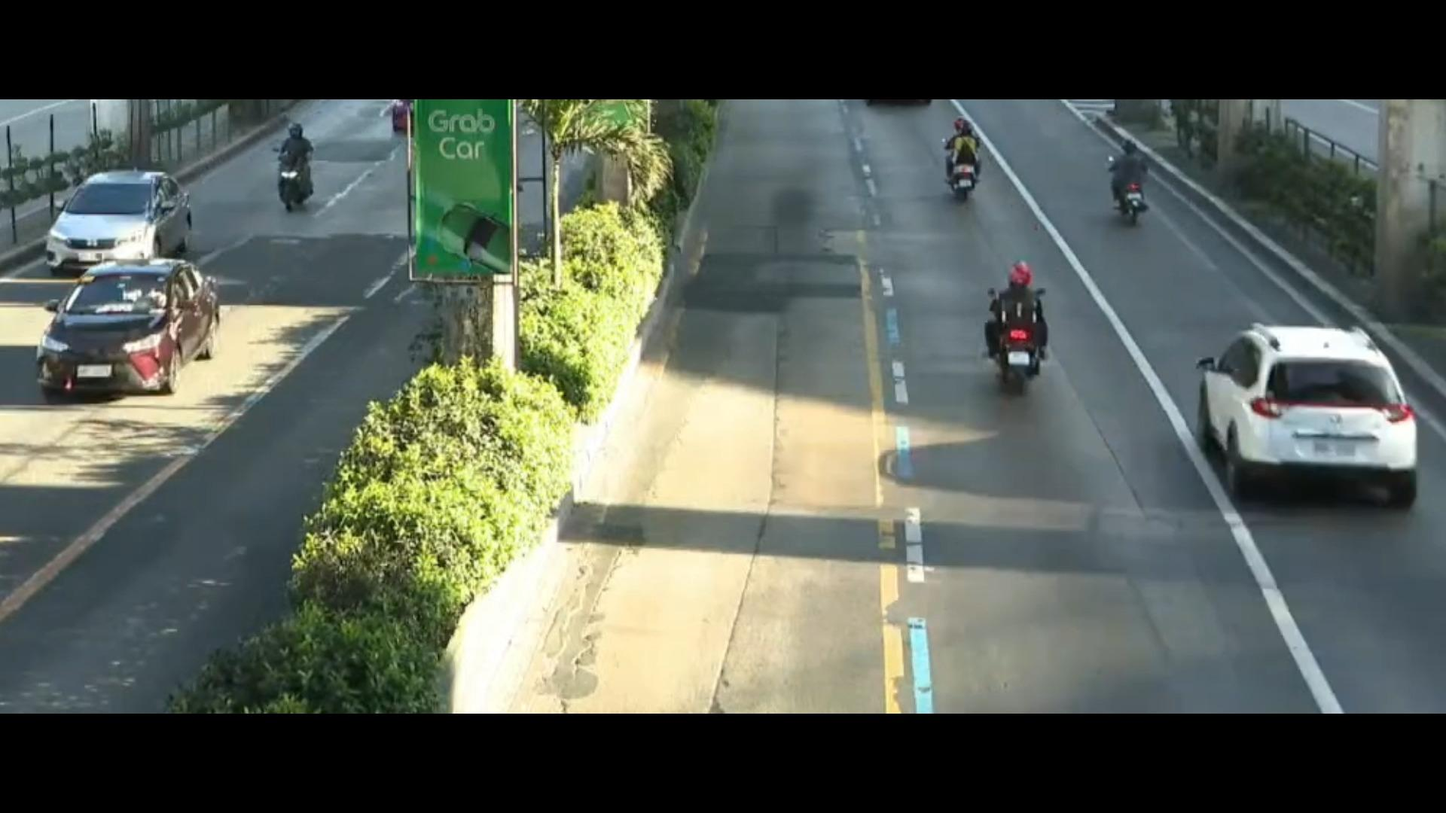Motorcycle: (921, 234, 1062, 389), (923, 102, 1006, 212), (253, 113, 334, 221), (1085, 132, 1168, 235)
SUV: (1194, 301, 1446, 518)
Sedan: (27, 243, 260, 417), (16, 147, 223, 265)
